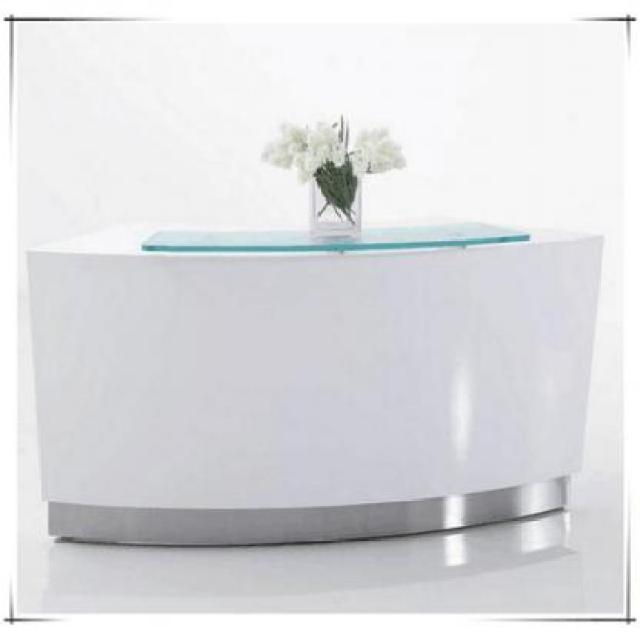frontdesk: (18, 194, 614, 547)
